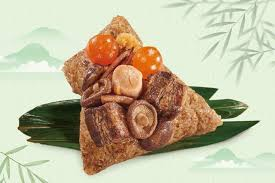zongzi: (63, 16, 222, 174)
